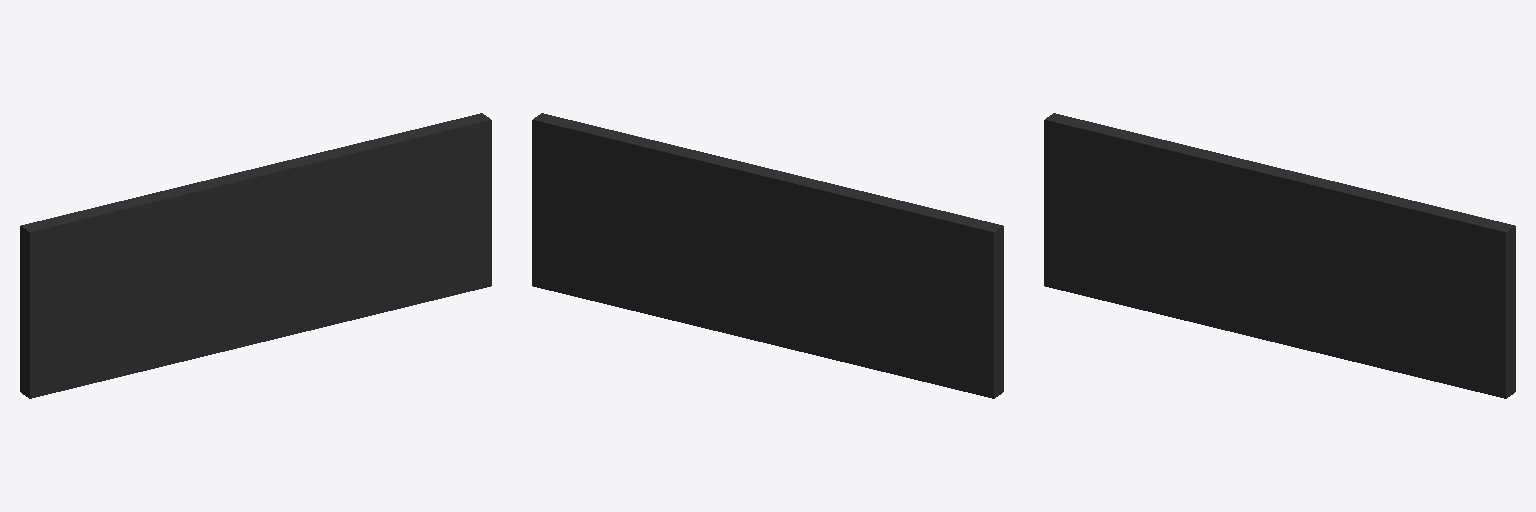
robot.urdf — wall:
<robot name="wall">
  <link name="baseLink">
   
    <inertial>
      <origin rpy="0 0 0" xyz="0 0 0" />
       <mass value="10" />
       <inertia ixx="0" ixy="0" ixz="0" iyy="0" iyz="0" izz="0" />
    </inertial>
    <visual>
      <origin rpy="0 0 0" xyz="0 0 0" />
      <geometry>
			  <box size="2.9 0.1 1" />
      </geometry>
       <material name="grey">
        <color rgba="0.24 0.24 0.24 1" />
      </material>
    </visual>
    <collision>
      <origin rpy="0 0 0" xyz="0 0 0" />
      <geometry>
	 	      <box size="2.9 0.1 1" />
      </geometry>
    </collision>
  </link>
</robot>

--- What the picture shows (computed from the rendered views, not written in the file) ---
3 views of the same robot in one strip: view 1: azimuth 30°, elevation 25°; view 2: azimuth 150°, elevation 25°; view 3: azimuth 330°, elevation 25° (orthographic).
Robot: wall — 1 links, 0 joints (none); root link baseLink; default pose: every joint at zero.
Links seen in each view (by area): view 1: baseLink; view 2: baseLink; view 3: baseLink.
Link boxes in pixels (x1=…): baseLink: x1=20, y1=113, x2=491, y2=398; baseLink: x1=532, y1=113, x2=1003, y2=398; baseLink: x1=1044, y1=113, x2=1515, y2=398.
Size in the robot's own frame: 2.9 by 0.1 by 1 metres.
Geometry: primitives only (box / cylinder / sphere), no mesh files.
